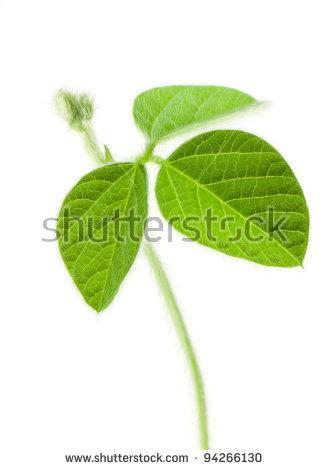Soyabean leaf: (158, 124, 312, 284), (51, 151, 151, 322), (127, 78, 267, 142)
